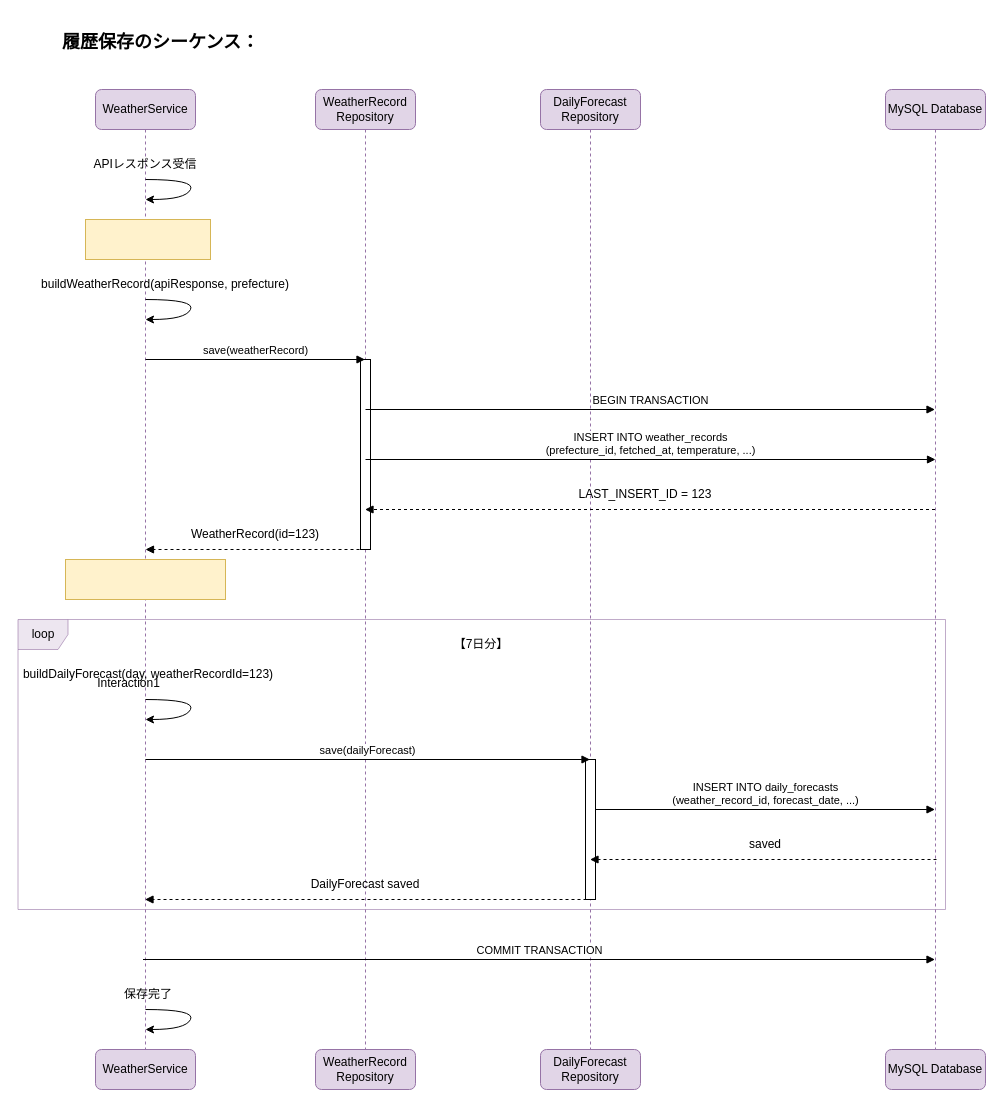
This 1003x1107 diagram has some shape labels left out. Here are the shapes that lost their labels. From the top down, the centre of each, then its label:
At (147,239): "1.WeatherRecord作成".
At (145,579): "2.DailyForecasts作成(7日分)".
